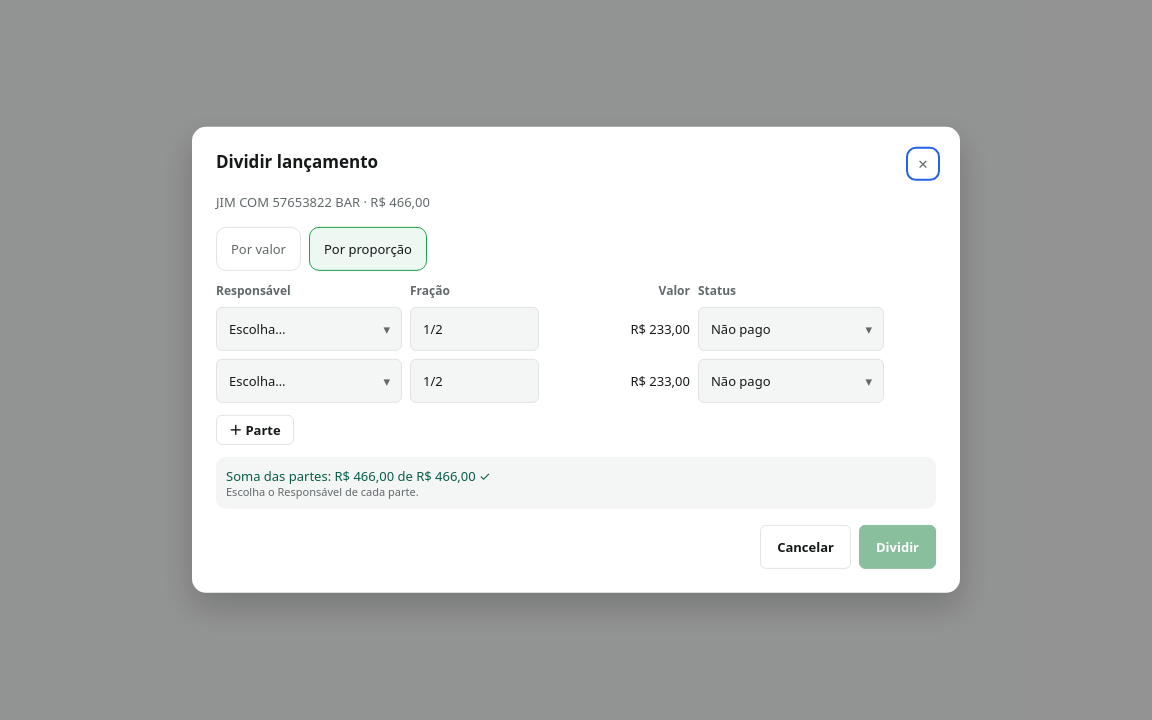
DividirLancamento (controlador) › recusa da RPC: toast com o texto do código e a janela continua aberta
Select "Casal" in the dropdown named "Responsável 1": x=309, y=329 [216,307,402,351]
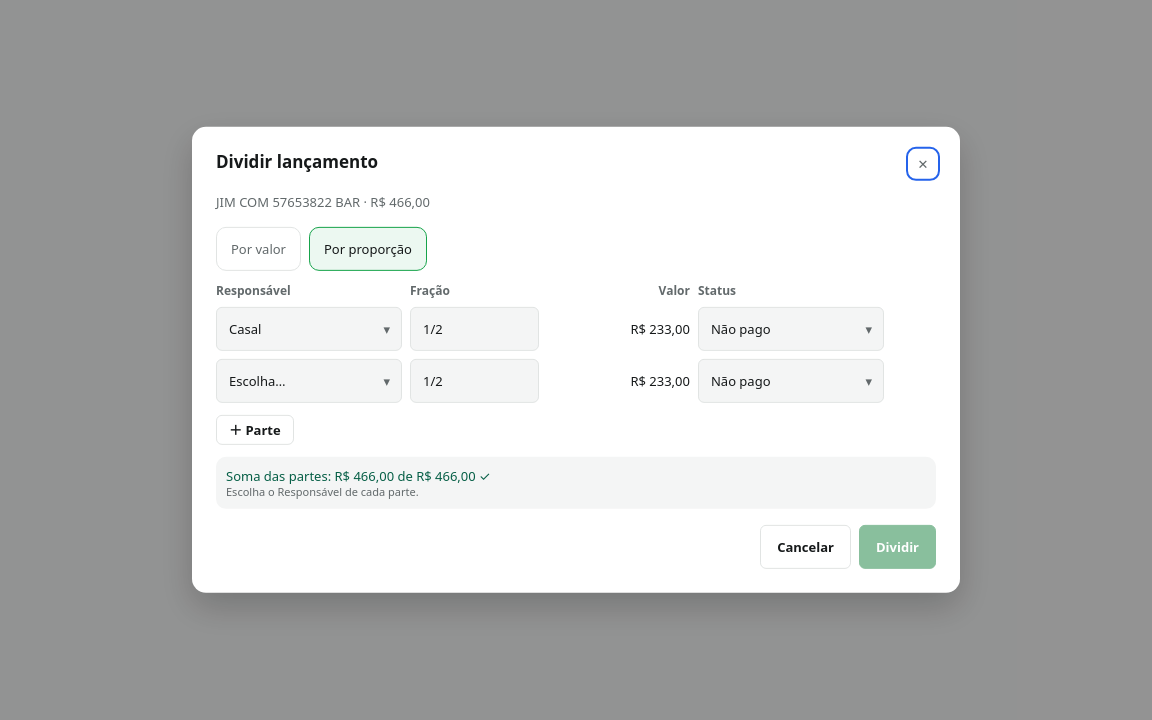
Select "Rafael" in the dropdown named "Responsável 2": x=309, y=381 [216,359,402,403]
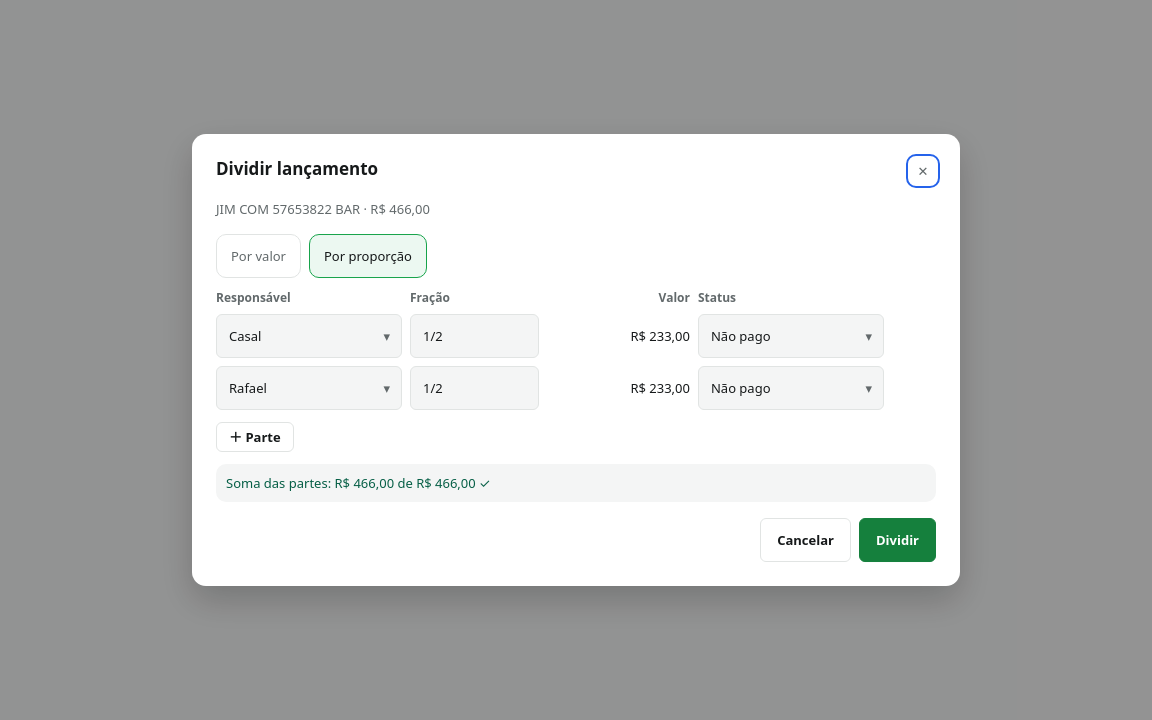
In the field named "Fração 1": x=474, y=336 [410,314,539,358], type "2/3"
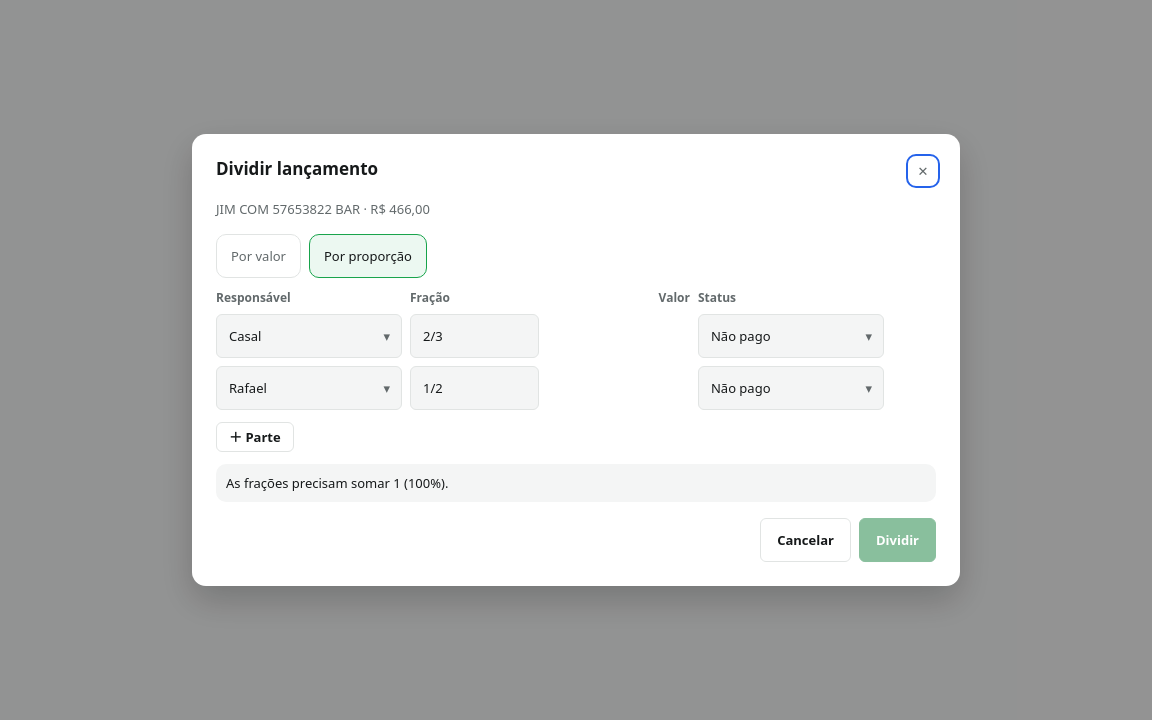
In the field named "Fração 2": x=474, y=388 [410,366,539,410], type "1/3"
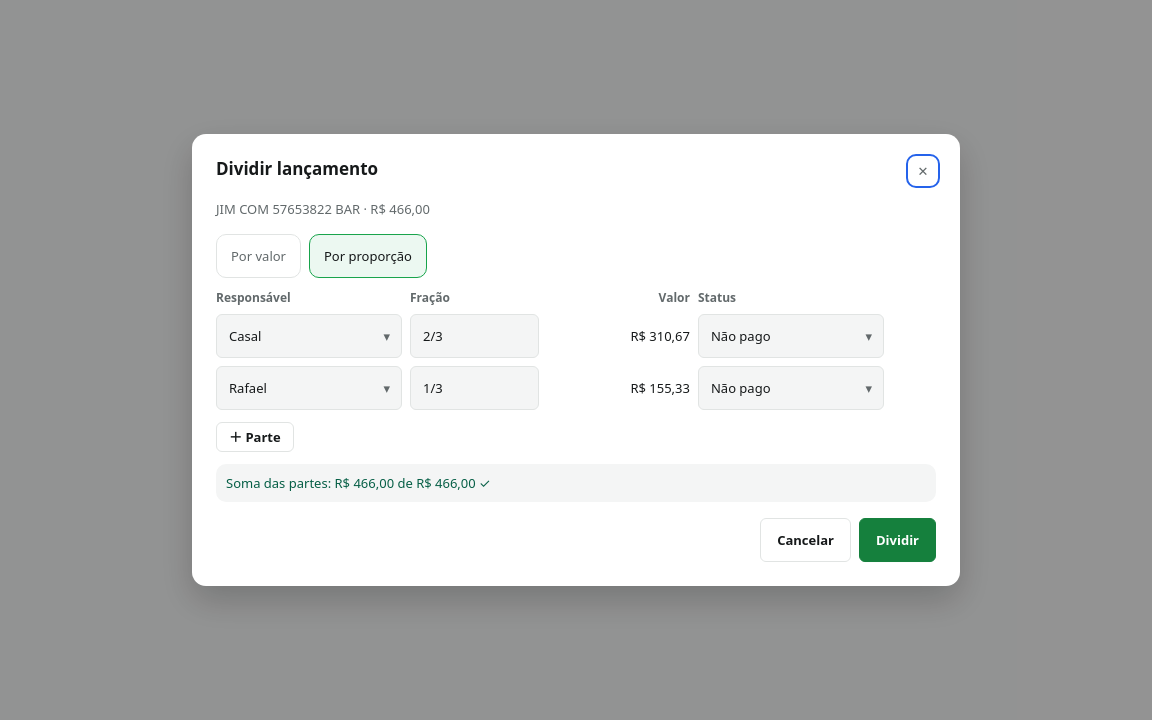
Click the button "Dividir": x=898, y=540 [859,518,936,562]
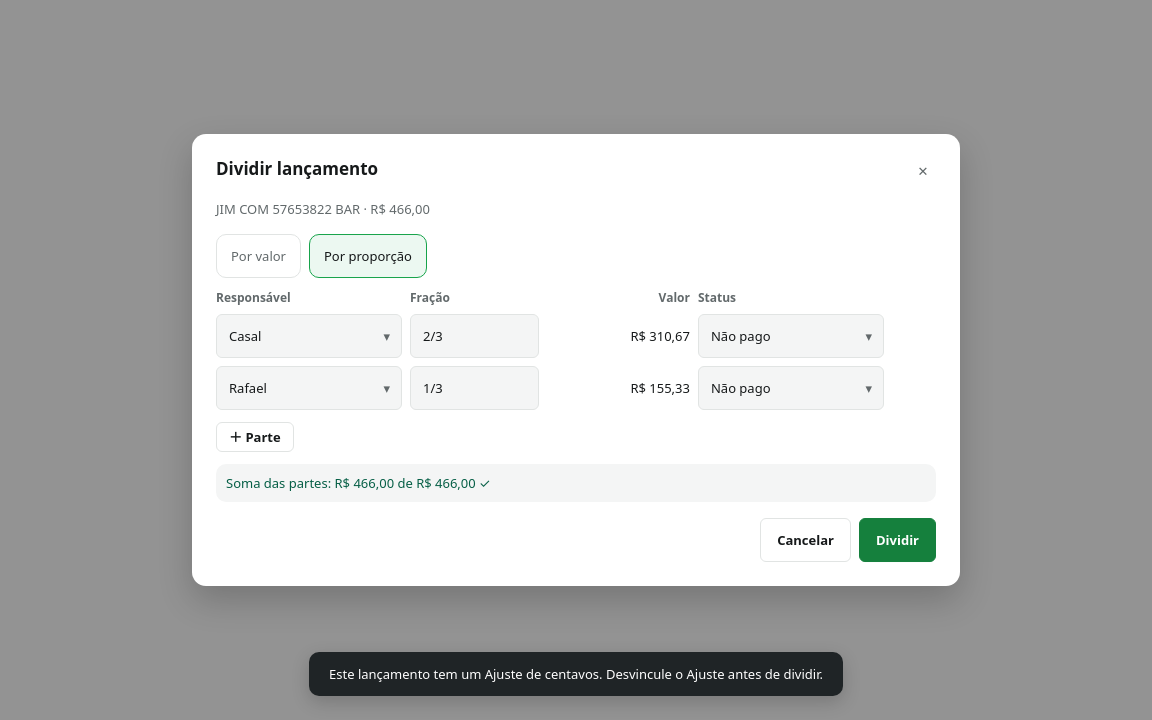
Expected: the dialog is shown, [192,134,960,586]
Result: the text "tem um Ajuste de centavos" is shown at [329,665,823,683]
